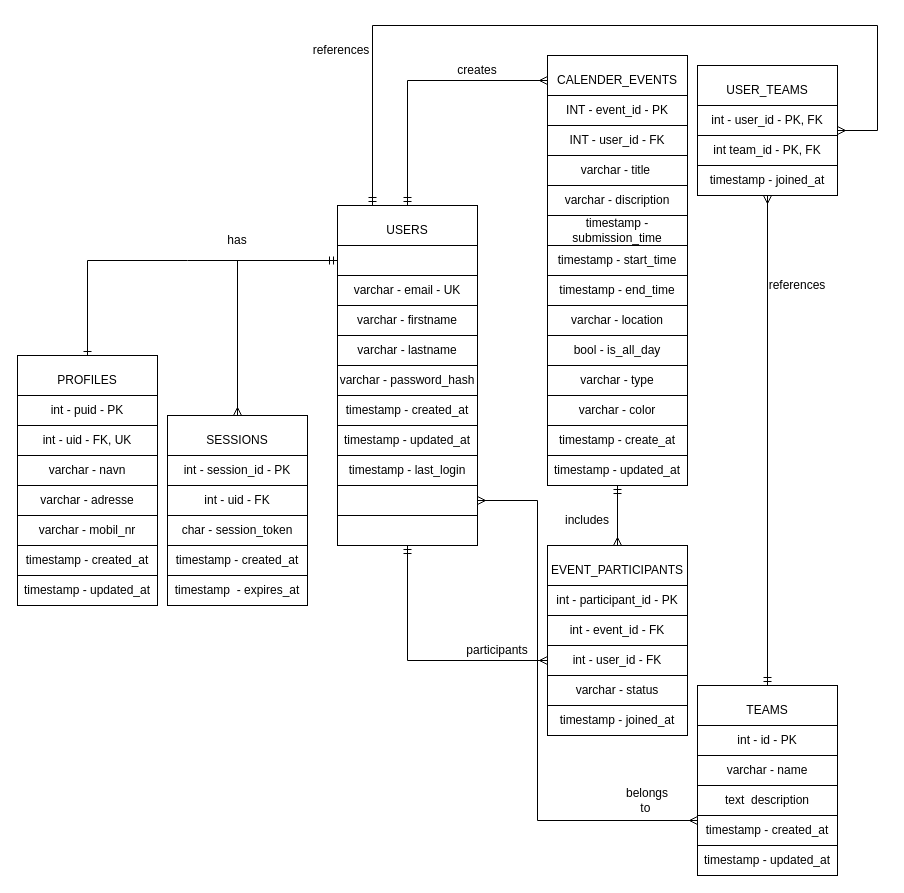
The diagram is 904 pixels wide and 893 high, and some of its shapes have lost their labels. The shapes that lost their labels are listed below. From the top down, each one's centre as x and y in pixels, then its label:
[407,260]: int - uid - PK
[407,500]: bool - is_active
[407,530]: varchar - role
